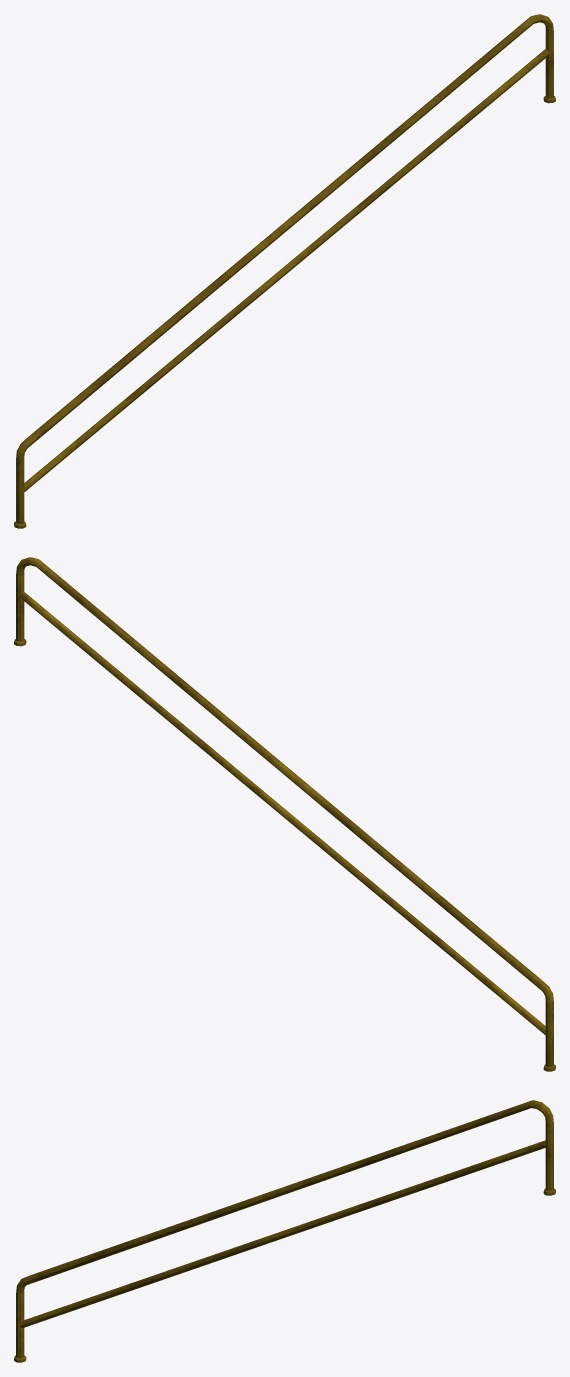
File: stairs_railing.fbx
The picture shows the model from 3 angles, top to bottom: view 1: azimuth 30°, elevation 25°; view 2: azimuth 150°, elevation 25°; view 3: azimuth 330°, elevation 25°; orthographic projection.
Parts seen in each view (by area): view 1: stairs_railing; view 2: stairs_railing; view 3: stairs_railing.
Boxes of the visible parts, x1,y1,x2,y2 form: stairs_railing: [14, 14, 555, 528]; stairs_railing: [14, 557, 555, 1071]; stairs_railing: [14, 1100, 555, 1362].
Bounding box in the file's own units: 714 × 486 × 15.09.
1 material, 1 textured.
